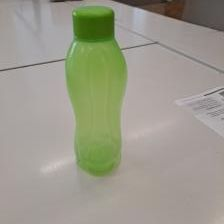bottle: (62, 5, 129, 173)
